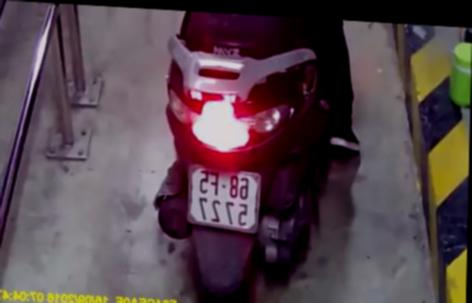License_Plate: (173, 163, 271, 238)
